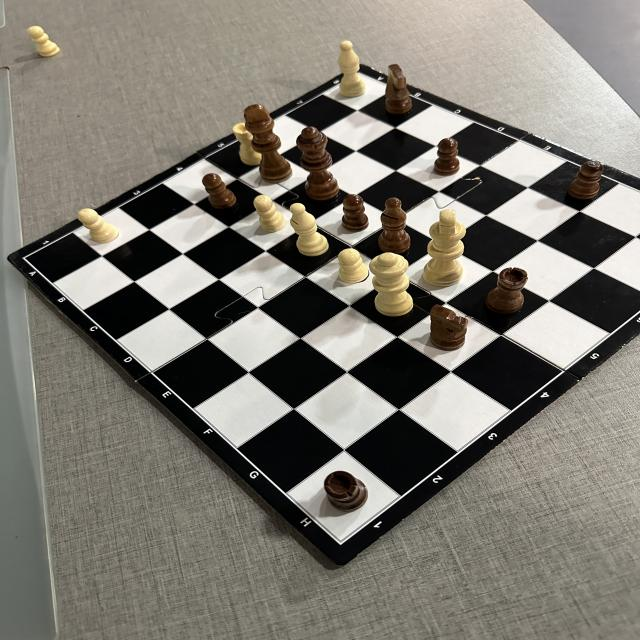Black-Bishop: (378, 198, 411, 254)
Black-King: (244, 104, 292, 183)
Black-Knight: (429, 304, 469, 351), (385, 64, 412, 114)
Black-Pawn: (567, 160, 604, 200), (202, 173, 237, 210), (341, 195, 369, 232), (433, 138, 460, 176)
Black-Queen: (296, 127, 340, 200)
Black-Rook: (484, 268, 529, 314), (324, 470, 368, 512)
White-Bishop: (289, 203, 330, 257), (336, 41, 366, 98)
White-King: (422, 209, 466, 287)
White-Pawn: (78, 208, 119, 244), (252, 195, 286, 232), (338, 248, 370, 284), (27, 25, 61, 58)
White-Queen: (369, 252, 414, 317)
White-Rook: (232, 123, 263, 166)
